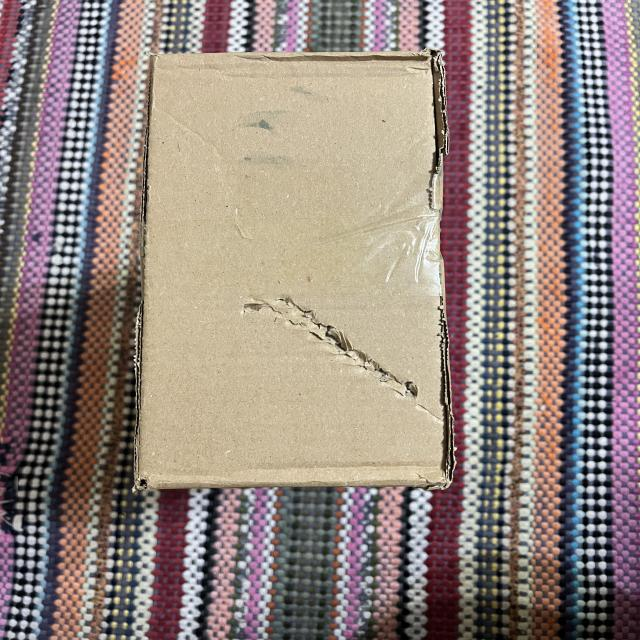damaged: (133, 44, 471, 500), (228, 284, 436, 415)
